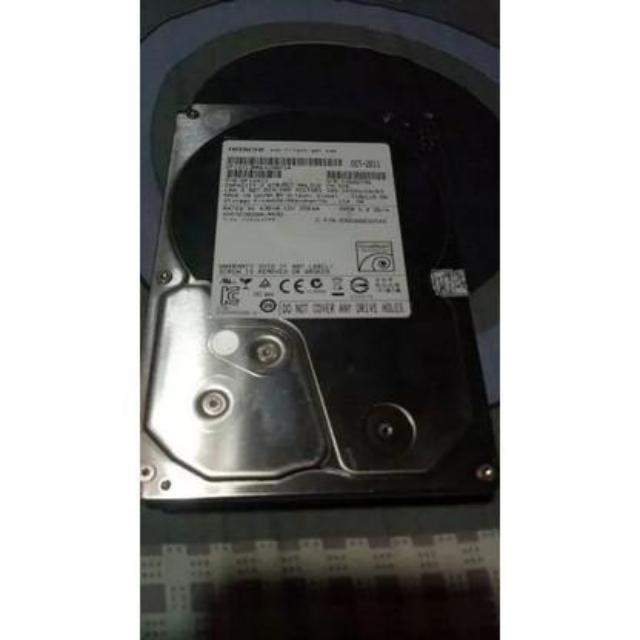DISK: (135, 91, 500, 524)
